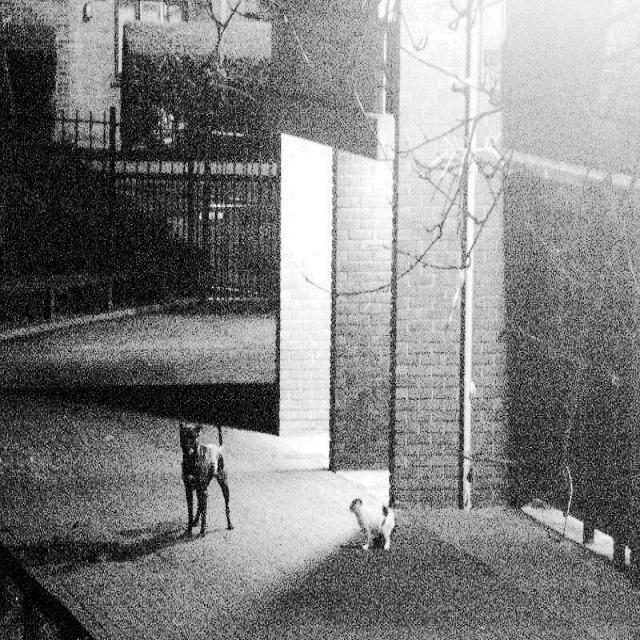Cat: (341, 475, 414, 563)
Dog: (170, 402, 257, 545)
